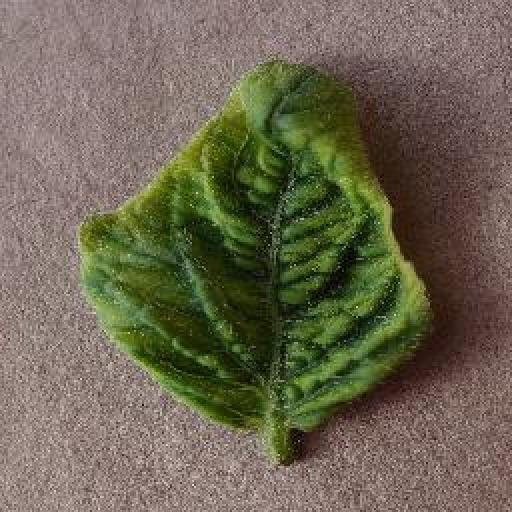Yellow Leaf Curl Virus: (73, 60, 436, 432)
